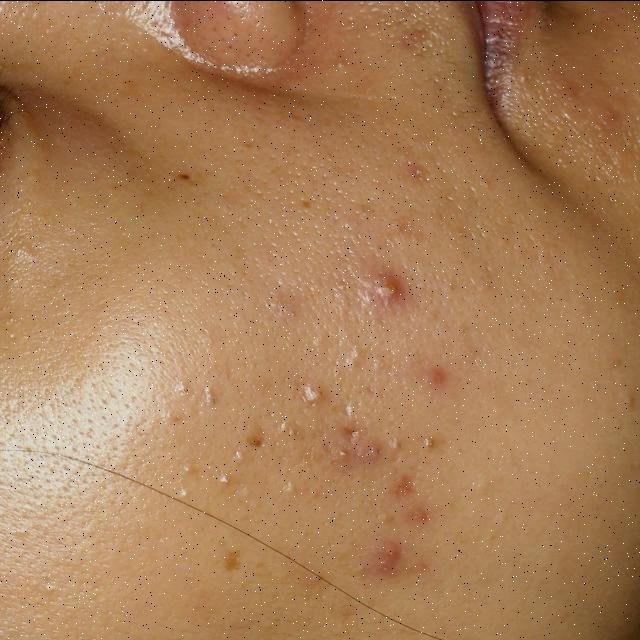nodules: (361, 532, 408, 582)
